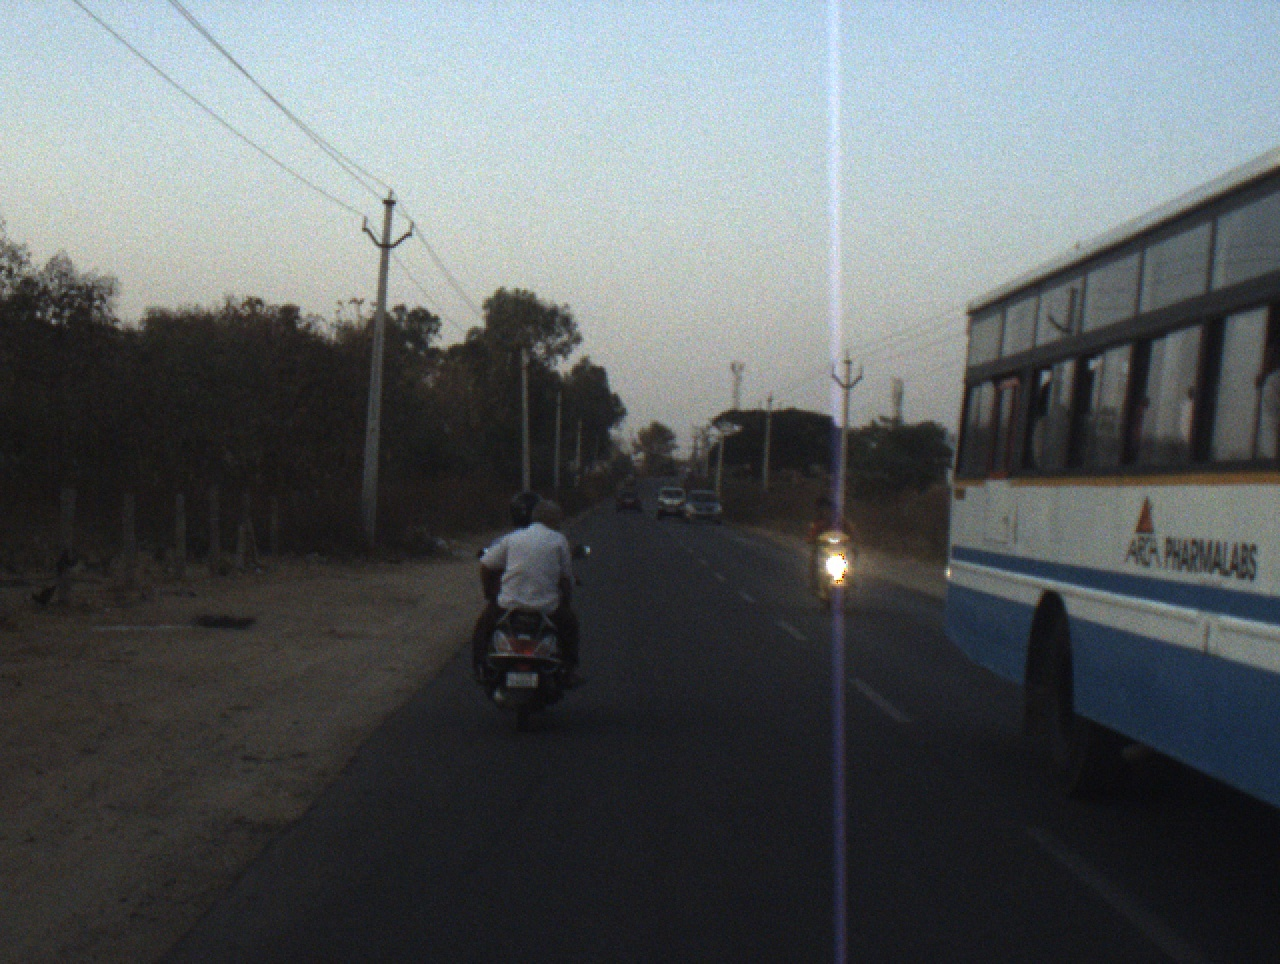autorickshaw: (622, 467, 639, 487)
bus: (942, 159, 1262, 857)
car: (680, 488, 727, 525), (654, 482, 688, 520), (615, 479, 646, 515)
motorcycle: (475, 538, 591, 731), (805, 528, 865, 613)
rider: (474, 498, 586, 695), (805, 504, 864, 593), (498, 488, 543, 533), (807, 491, 827, 524)
